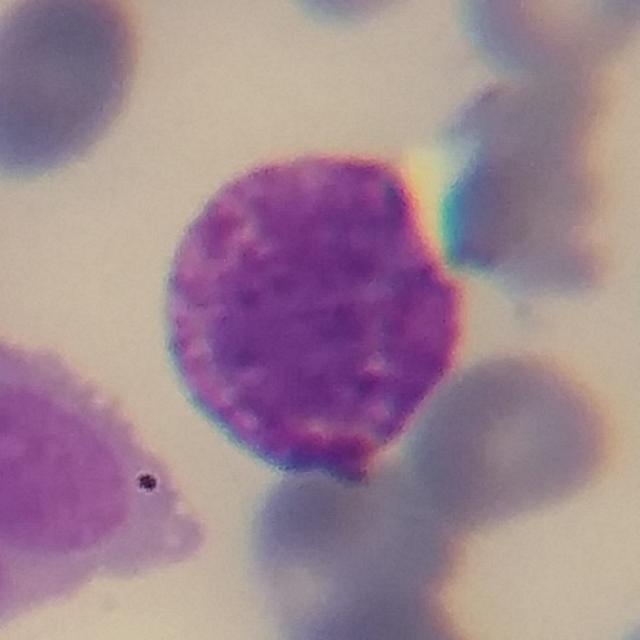Basophil: (146, 134, 467, 485)
Monocyte: (0, 332, 206, 629)
RBC: (426, 71, 620, 301), (399, 342, 626, 532), (248, 445, 461, 637), (0, 0, 155, 187), (457, 0, 639, 73), (305, 582, 489, 640), (258, 0, 440, 29)
